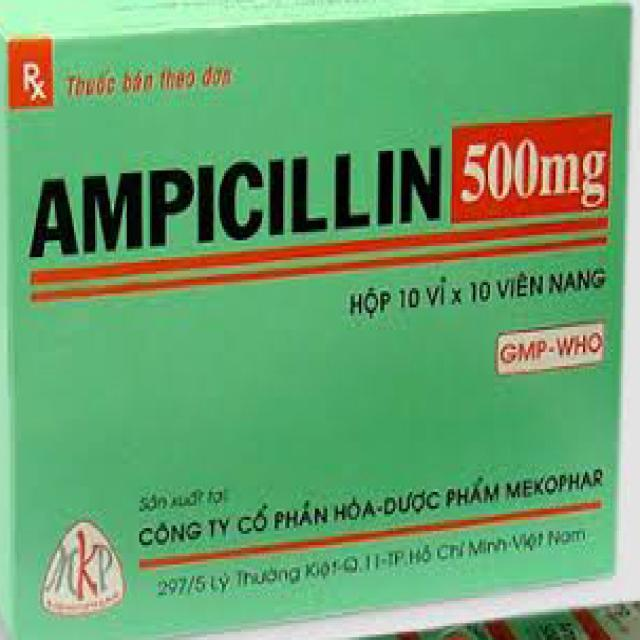drug-name: (30, 138, 449, 271)
